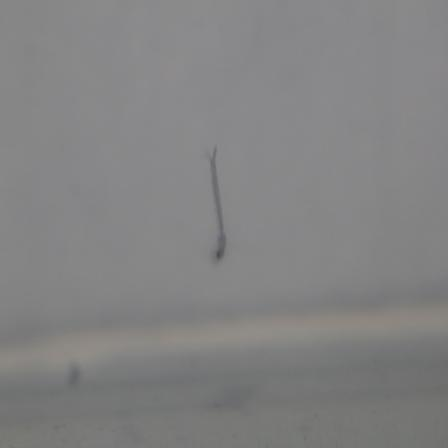Jentik-Nyamuk: (202, 143, 230, 263)
